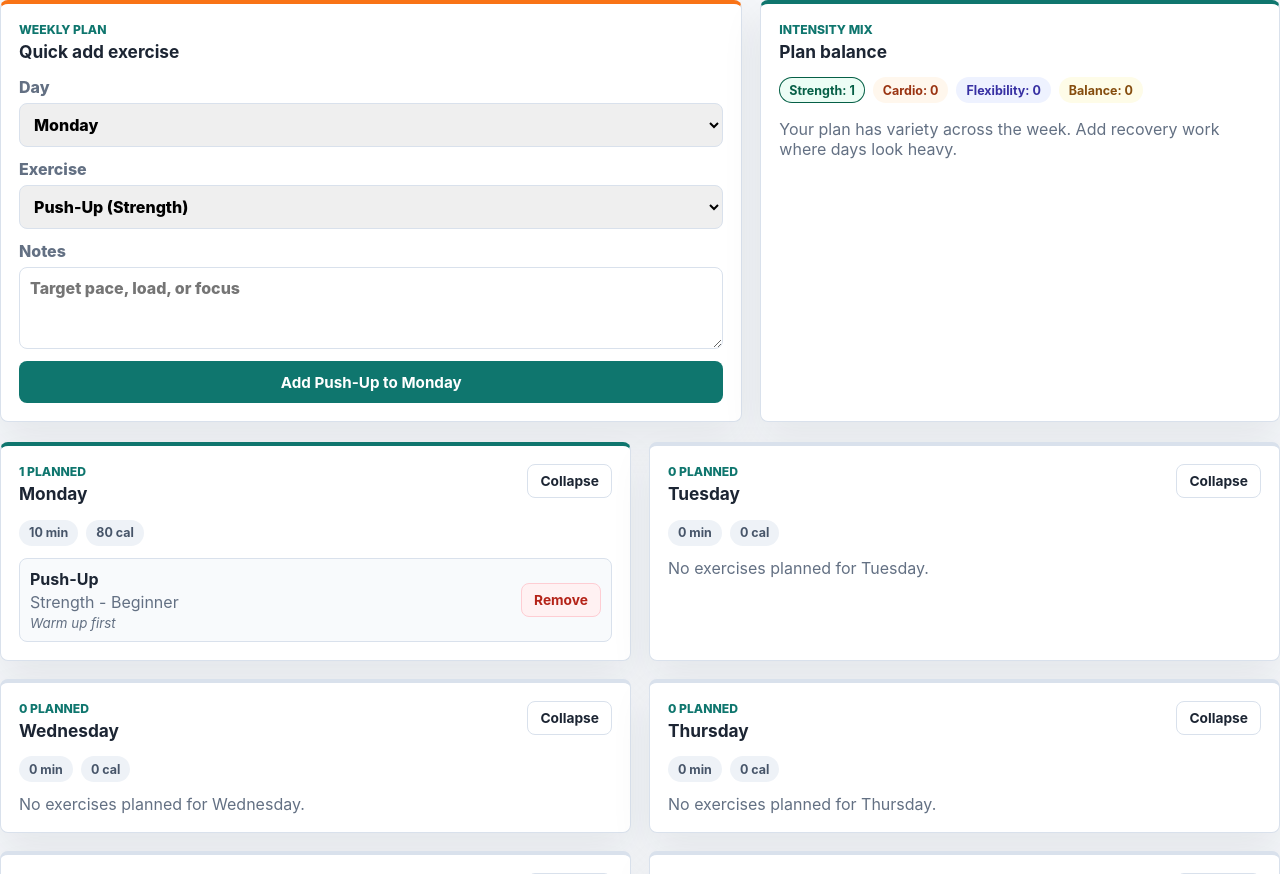
it: planner and workout log flows › previews a planned exercise from a day card modal
Click the button "Push-Up Strength - Beginner Warm up first". click: click(64, 579)
box: [30, 569, 511, 631]
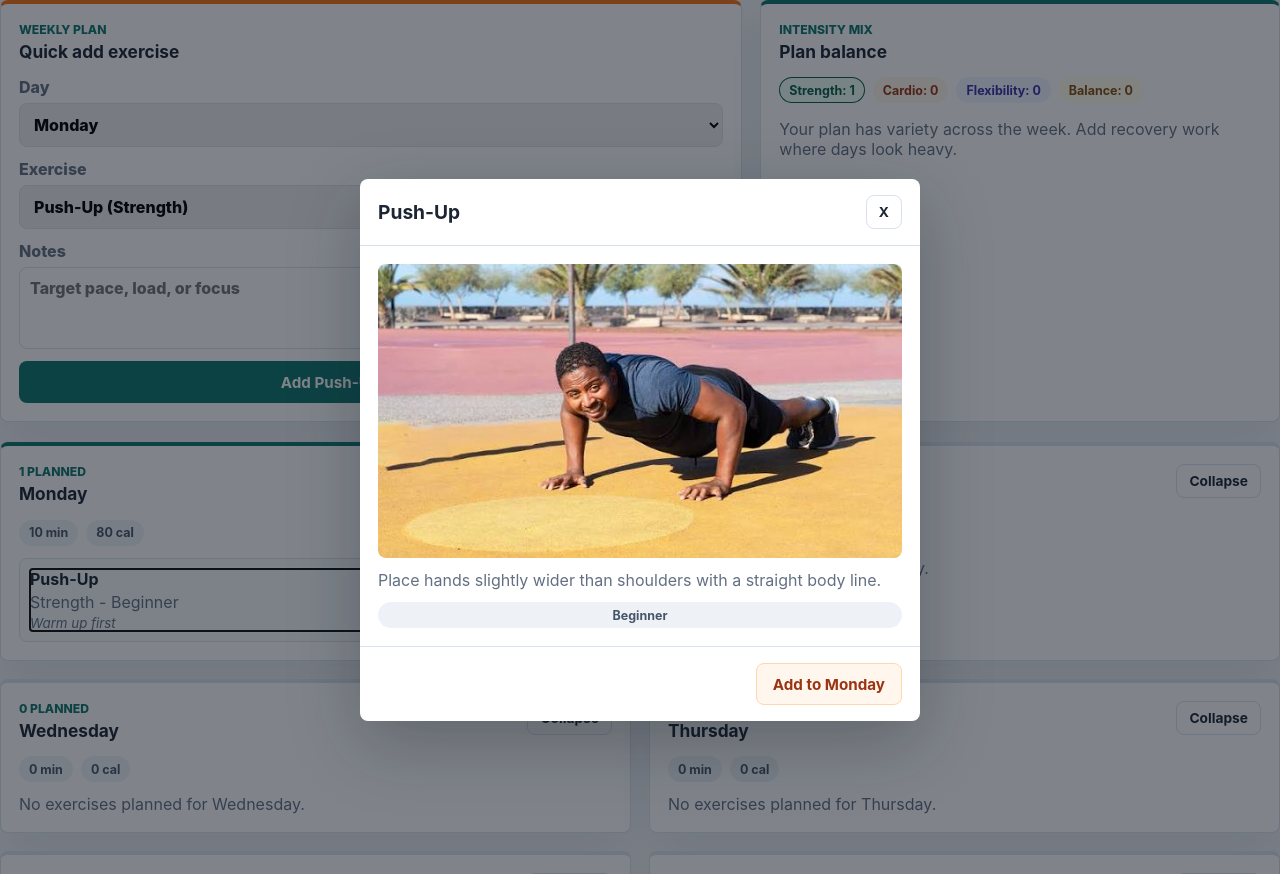
Check: the dialog "Push-Up" is shown, box [360, 179, 920, 721]
Check: the text "Place hands slightly wider than shoulders with a straight body line." is shown, box [378, 570, 902, 590]
